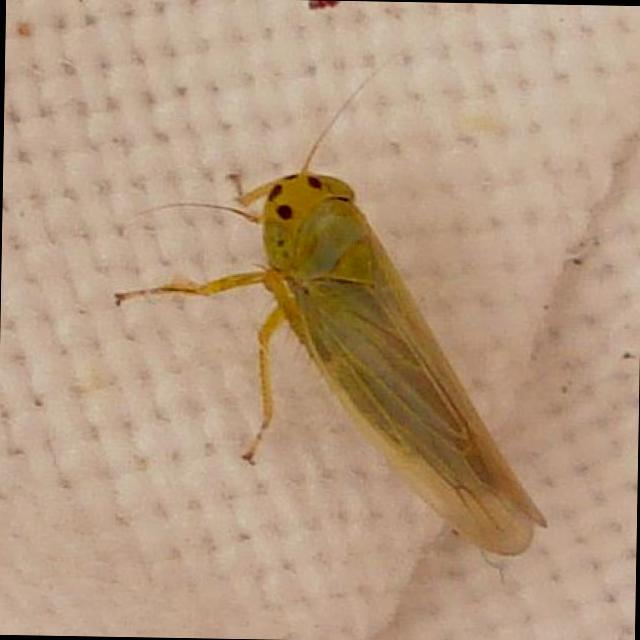green leaf hopper: (115, 120, 544, 554)
